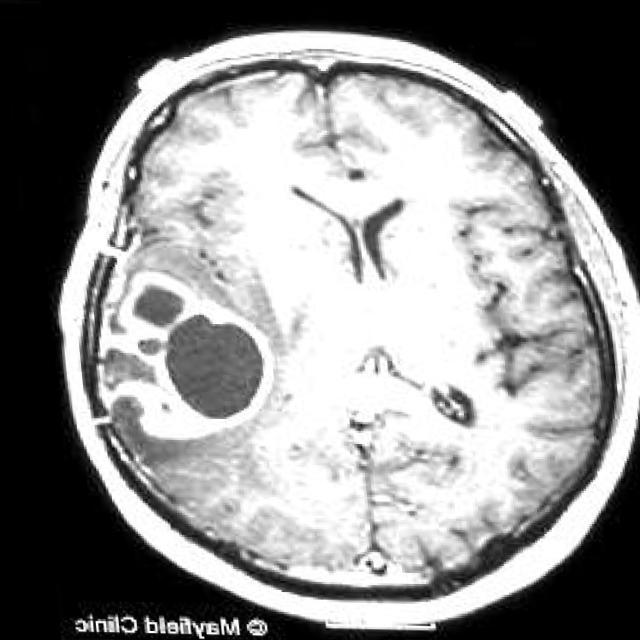Tumor: (103, 257, 279, 458)
